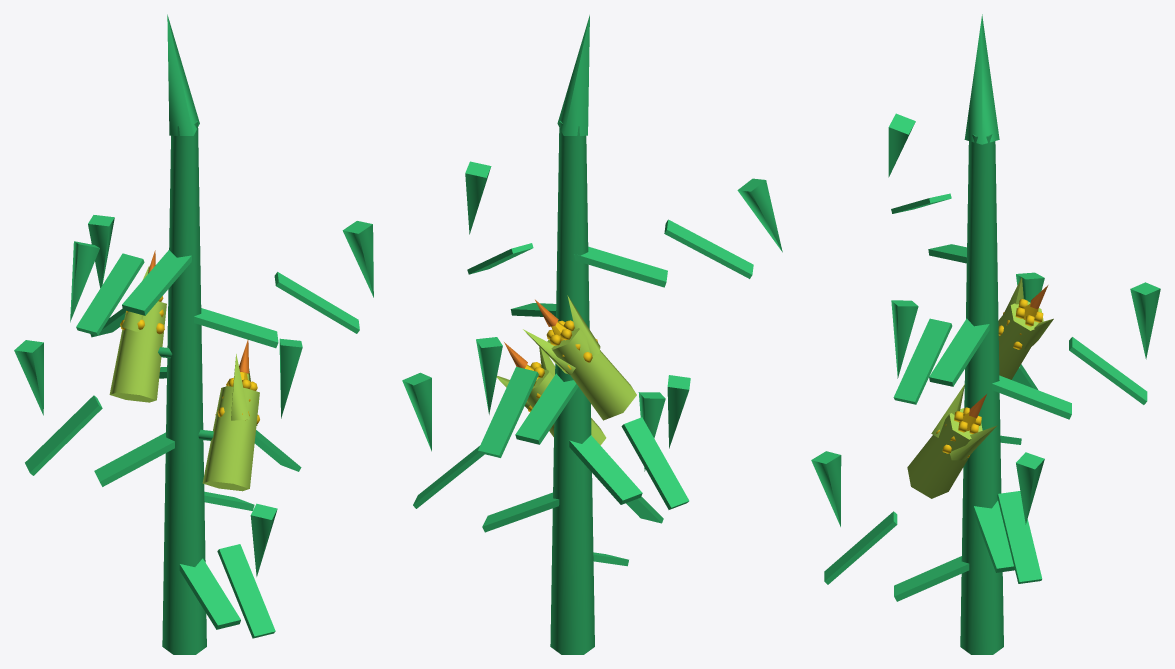
File: crop_corn.glb
The picture shows the model from 3 angles, left to right: view 1: azimuth 30°, elevation 25°; view 2: azimuth 150°, elevation 25°; view 3: azimuth 270°, elevation 25°; orthographic projection.
Visible parts, largest first — view 1: scale_group; view 2: scale_group; view 3: scale_group.
Part boxes in pixels (x1,y1,x2,y2): scale_group: [14, 14, 373, 654]; scale_group: [402, 15, 782, 654]; scale_group: [811, 14, 1160, 654].
Size of the model in its own units: 0.7992 by 1.58 by 0.7999.
